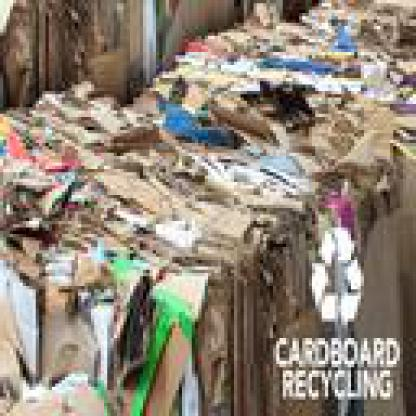CARDBOARD: (0, 0, 413, 413), (26, 75, 306, 413), (124, 59, 364, 413), (0, 104, 254, 413), (0, 231, 231, 413), (344, 153, 413, 413), (0, 0, 127, 98), (126, 0, 244, 94), (247, 0, 279, 26)
